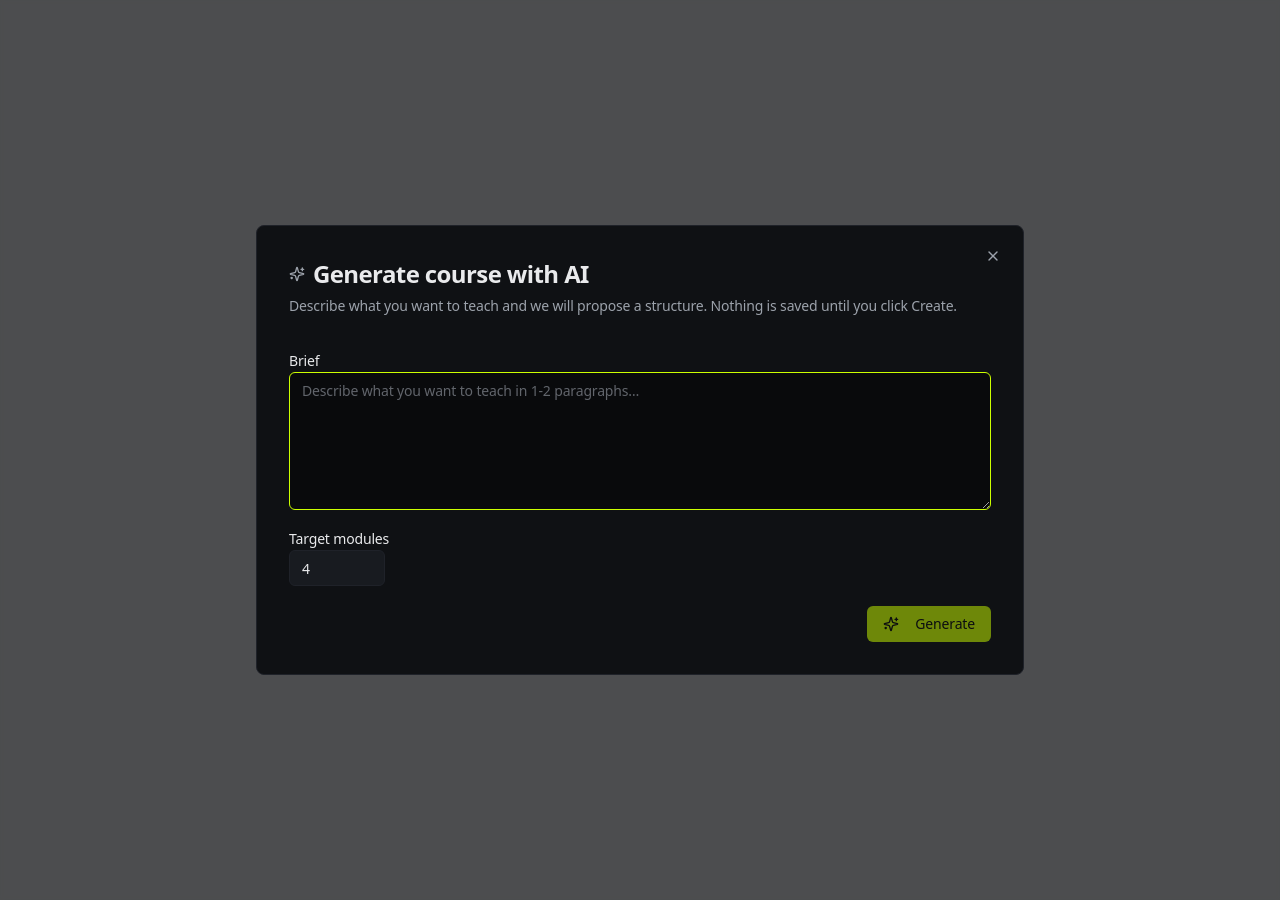
Test: AIOutlineModal › Generate button is disabled until the brief is non-empty
This screenshot has width=1280, height=900.
Expected: the button "Generate" is disabled, [867, 606, 991, 642]
In the text box labelled "Brief": point(640, 441) [289, 372, 991, 510], type "anything"
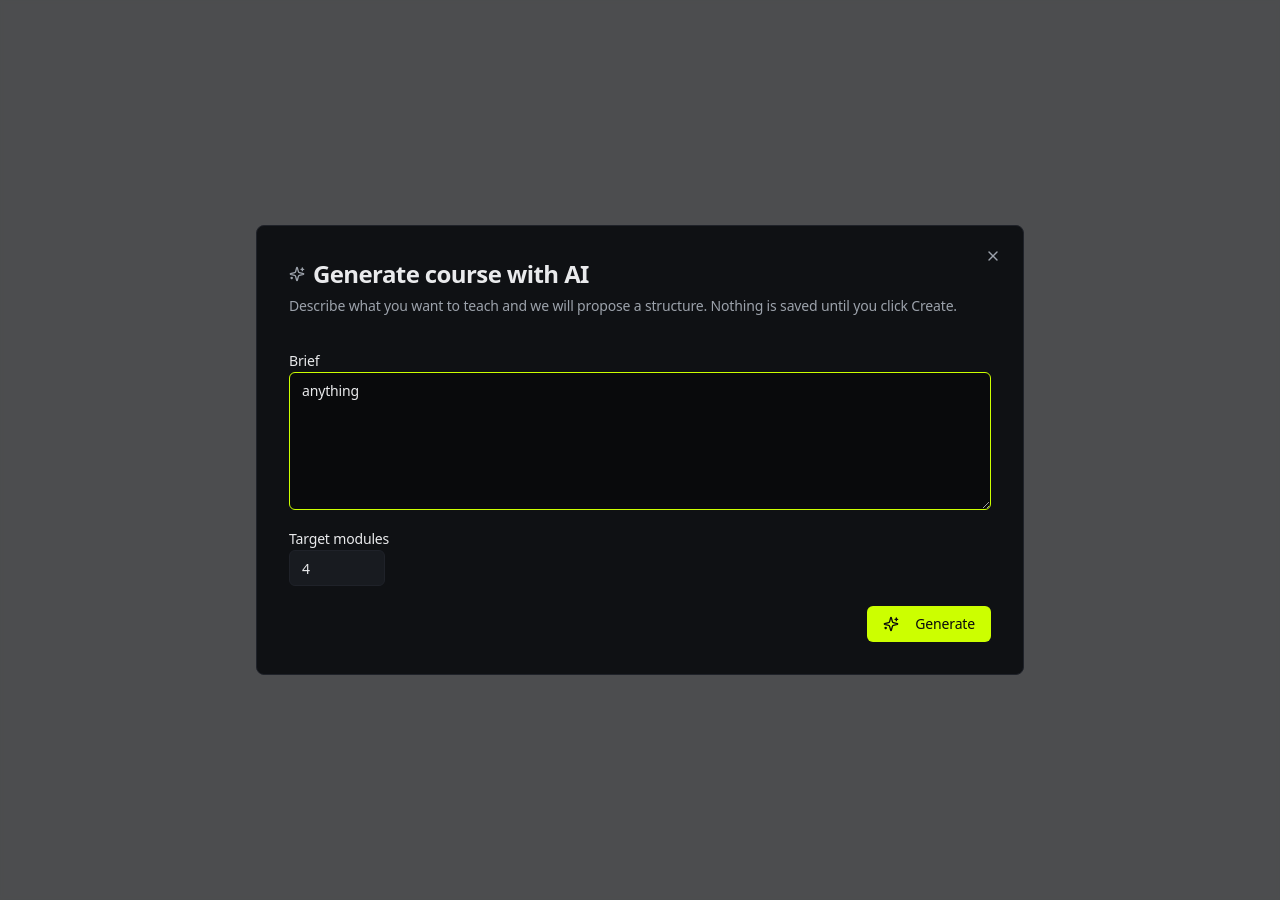
Expected: the button "Generate" is enabled, [867, 606, 991, 642]
